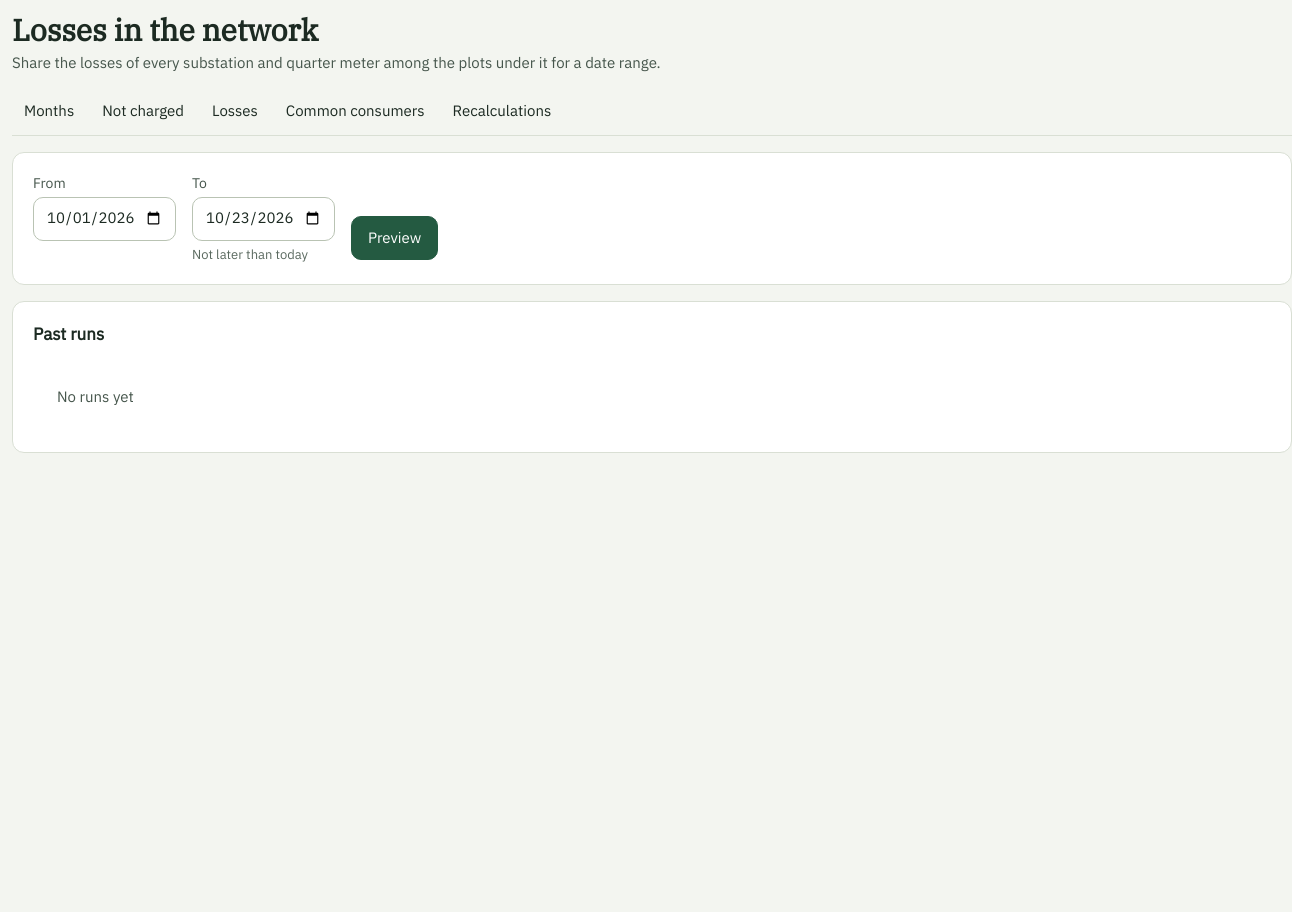
Test: LossesPage › when a node was already charged for these days › says nothing can be booked when no node is left
Click the button "Preview" at (395, 238), box [351,216,438,260]
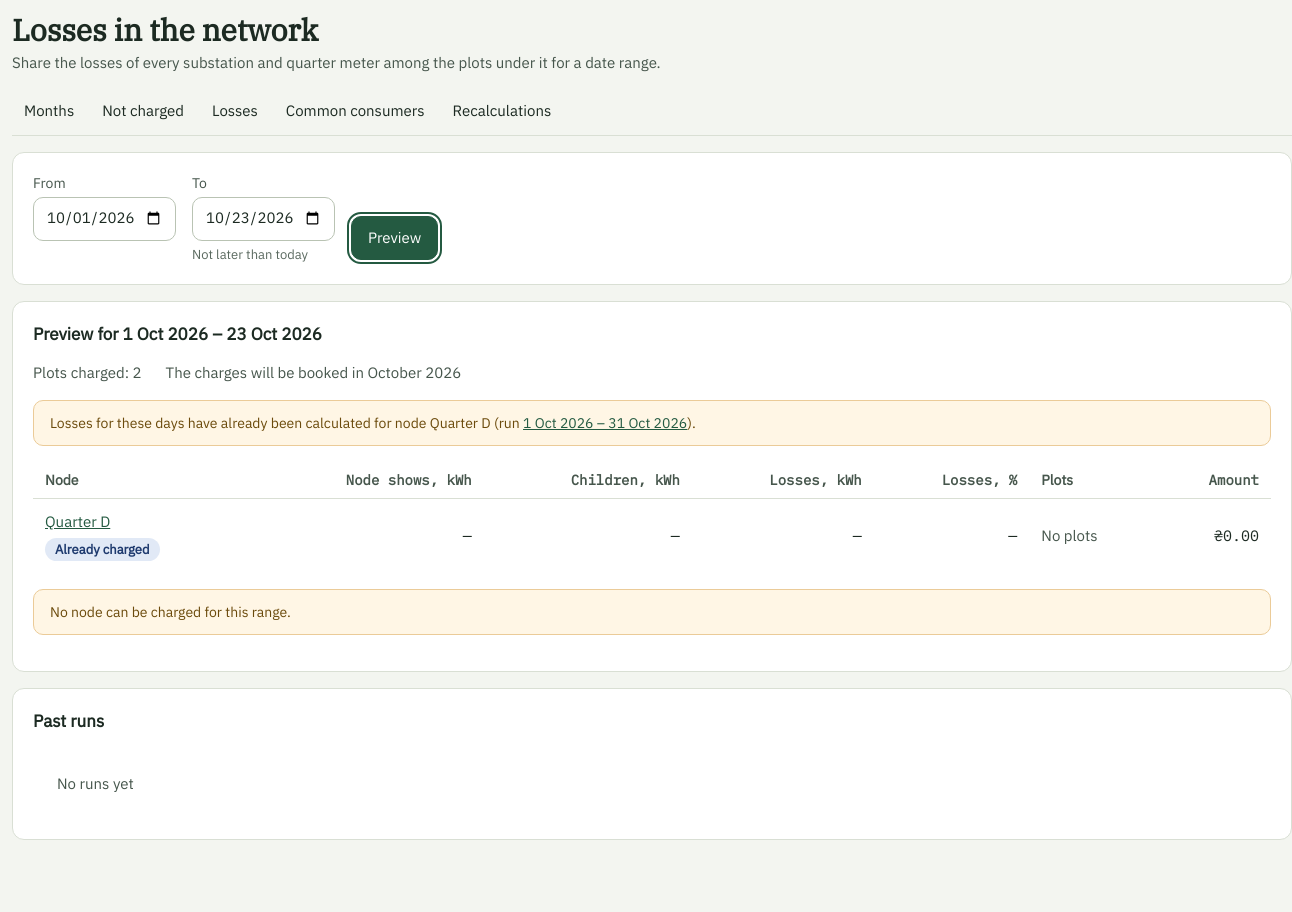
expect the text "No node can be charged for this range." is shown: met, box [33,589,1271,635]
